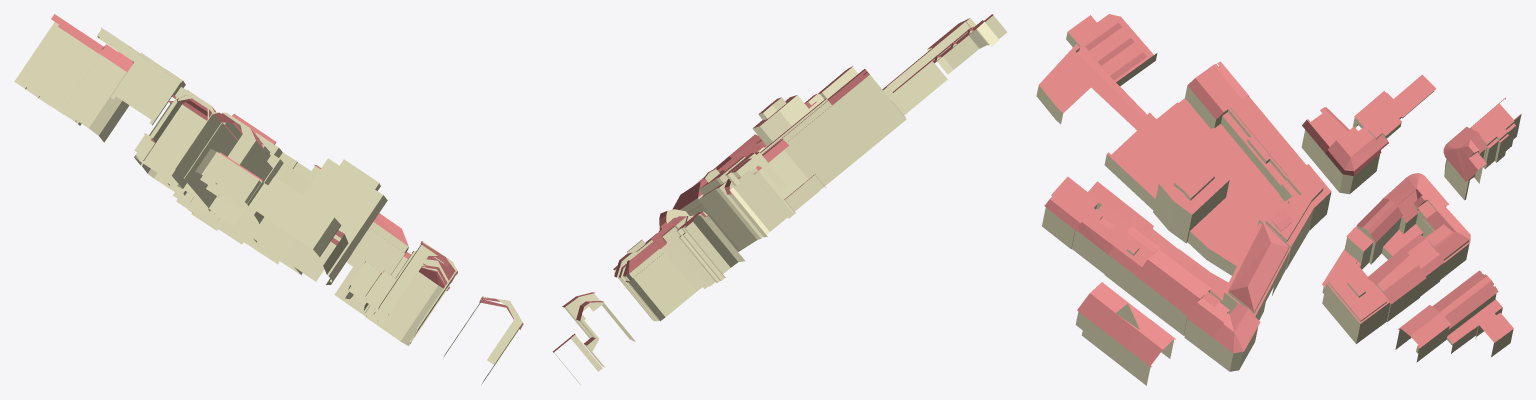
The model's file is tile_021.glb.
The picture shows the model from 3 angles, left to right: view 1: azimuth 30°, elevation 25°; view 2: azimuth 150°, elevation 25°; view 3: azimuth 270°, elevation 25°; orthographic projection. The views are drawn at different scales.
Visible parts, largest first — view 1: Batched_Building_ID_F636F1D1-453F-4036-8370-B6F56598A457, Batched_Building_ID_A400E709-58AF-40FF-8246-F4582FF1453E; view 2: Batched_Building_ID_F636F1D1-453F-4036-8370-B6F56598A457, Batched_Building_ID_A400E709-58AF-40FF-8246-F4582FF1453E; view 3: Batched_Building_ID_A400E709-58AF-40FF-8246-F4582FF1453E, Batched_Building_ID_F636F1D1-453F-4036-8370-B6F56598A457.
Boxes of the visible parts, box(x1,y1,x2,y2) form: Batched_Building_ID_F636F1D1-453F-4036-8370-B6F56598A457: box(14, 22, 522, 384); Batched_Building_ID_A400E709-58AF-40FF-8246-F4582FF1453E: box(51, 14, 523, 329); Batched_Building_ID_F636F1D1-453F-4036-8370-B6F56598A457: box(554, 15, 1007, 384); Batched_Building_ID_A400E709-58AF-40FF-8246-F4582FF1453E: box(552, 14, 993, 352); Batched_Building_ID_A400E709-58AF-40FF-8246-F4582FF1453E: box(1039, 14, 1520, 367); Batched_Building_ID_F636F1D1-453F-4036-8370-B6F56598A457: box(1036, 32, 1521, 385).
Bounding box in the file's own units: 134 × 119 × 202.
